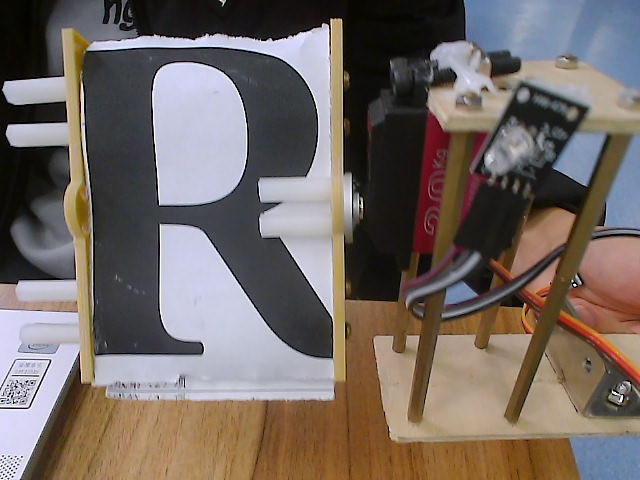R: (7, 15, 380, 445)
